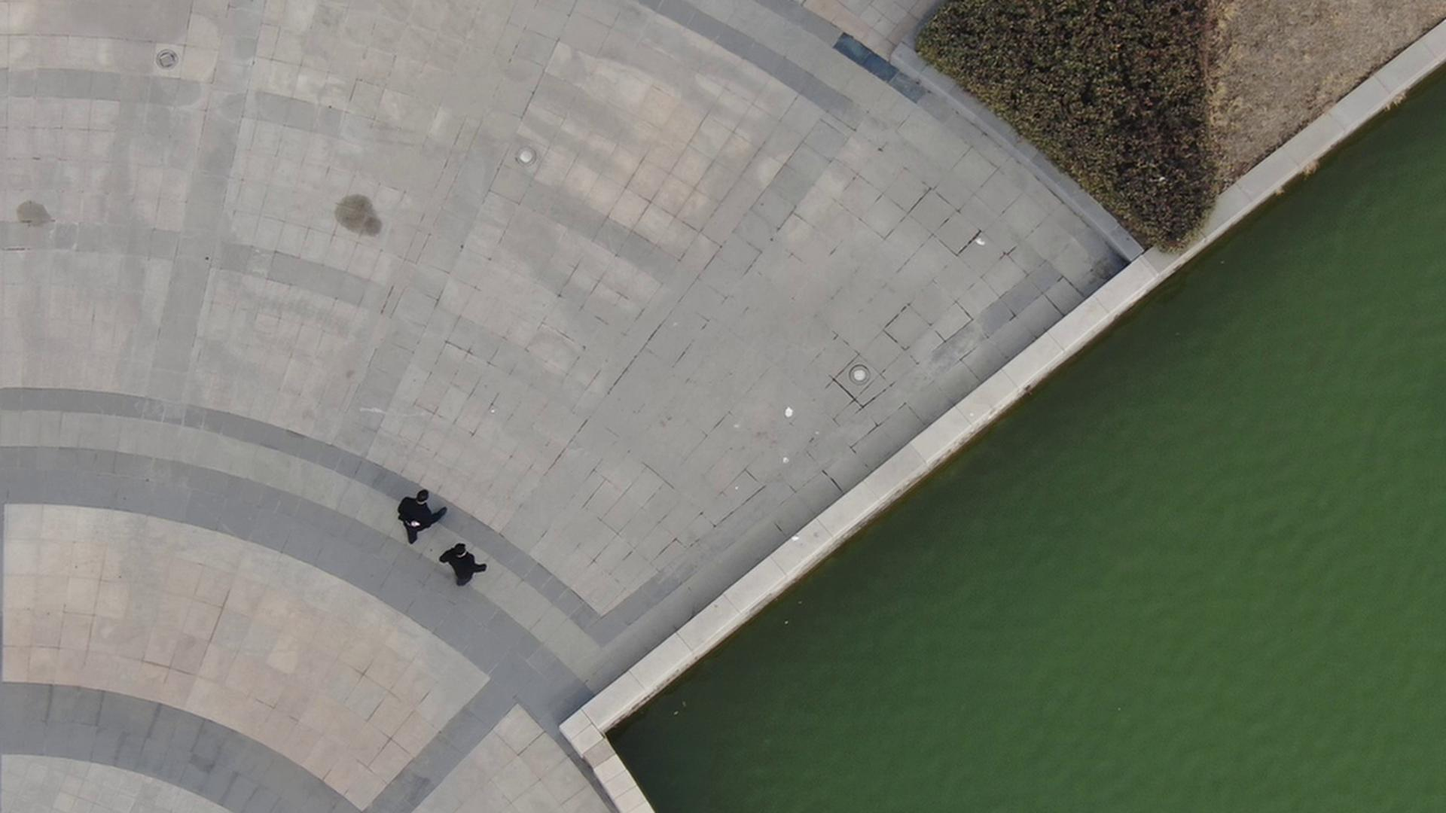human: (381, 476, 437, 548), (434, 535, 486, 598)
